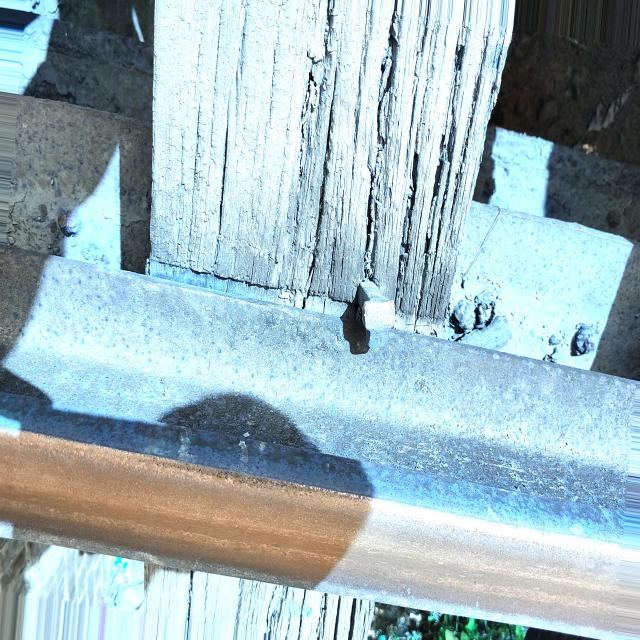non-defective: (2, 242, 638, 636)
